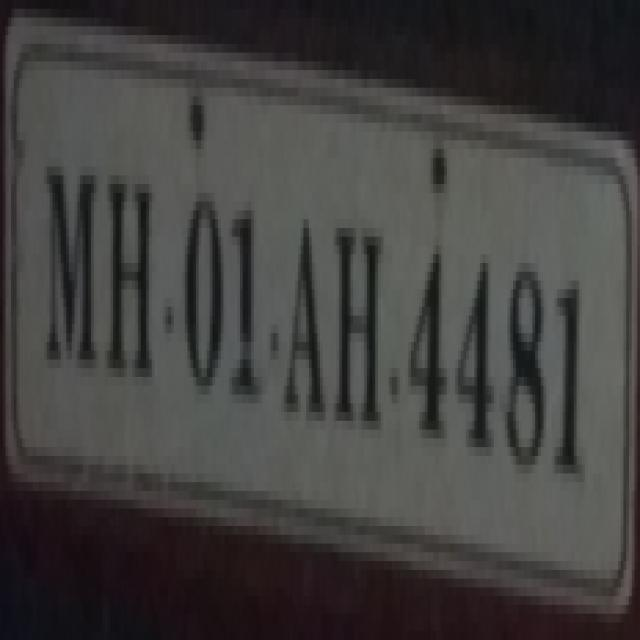0: (180, 164, 226, 398)
1: (227, 172, 264, 420), (555, 261, 587, 495)
4: (401, 222, 454, 464), (457, 235, 500, 469)
8: (504, 241, 550, 485)
A: (280, 202, 328, 444)
H: (332, 204, 387, 441), (104, 154, 154, 388)
M: (36, 125, 102, 392)
